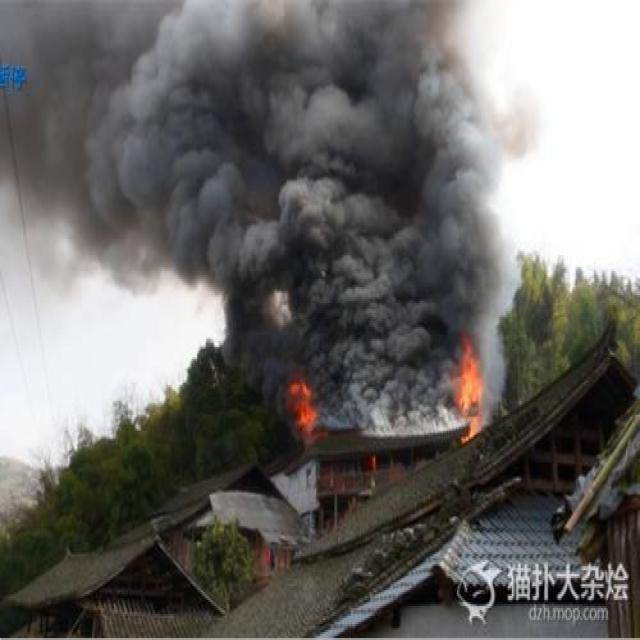Fire: (448, 324, 492, 480), (278, 356, 328, 469)
Smoke: (32, 0, 556, 456)
